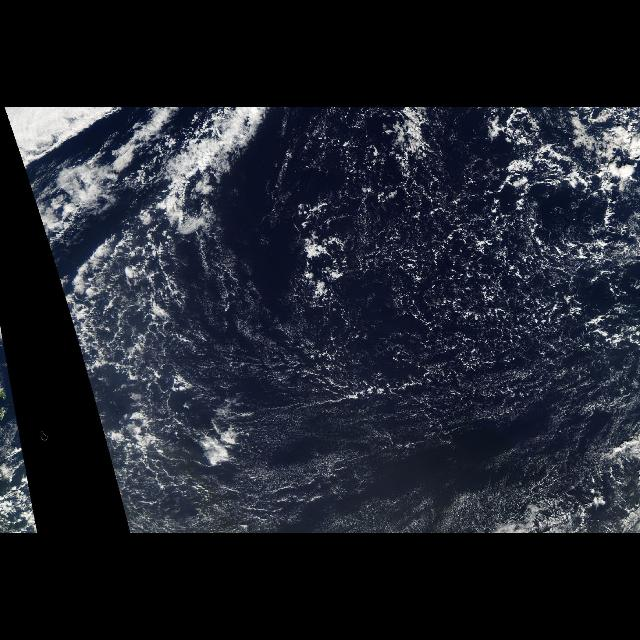Gravel: (290, 111, 636, 435)
Sugar: (173, 386, 639, 534)
